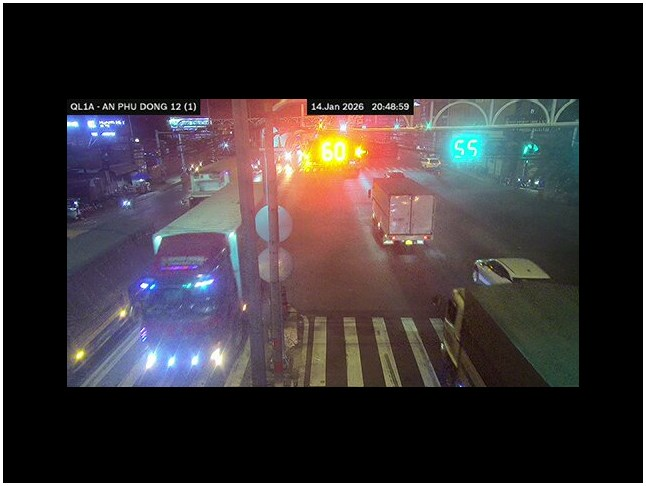car: (128, 231, 239, 326), (191, 171, 230, 196), (68, 198, 82, 221)
truck: (370, 175, 435, 249)
